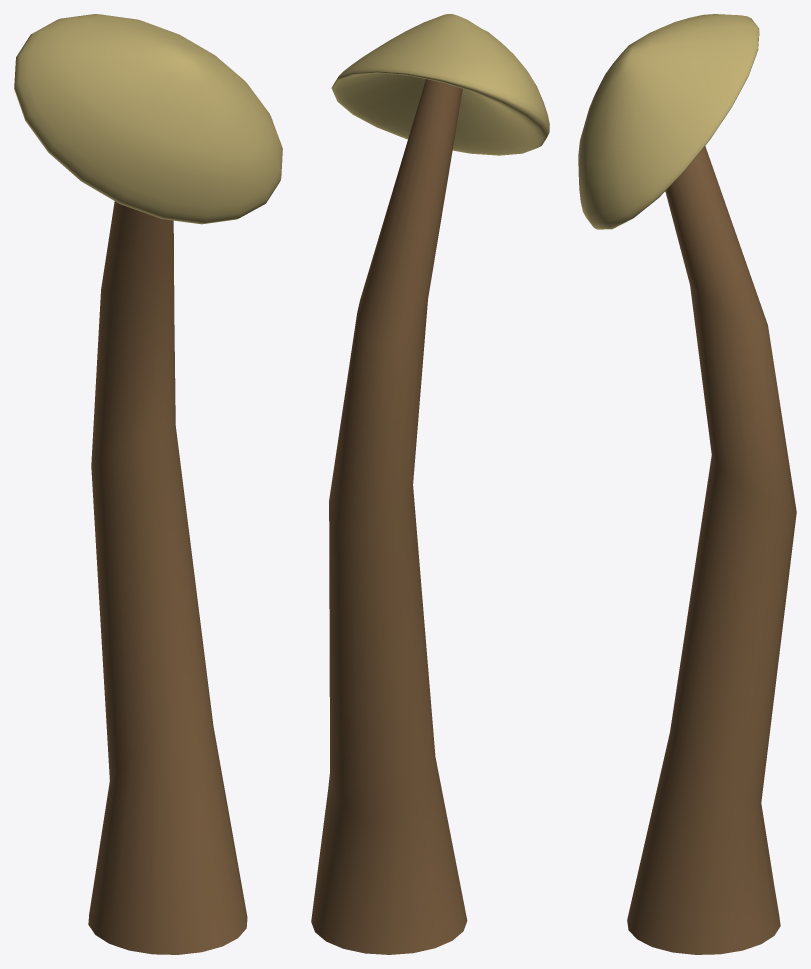
The model's file is sm_mushroom_02.fbx.
The picture shows the model from 3 angles, left to right: view 1: azimuth 30°, elevation 25°; view 2: azimuth 150°, elevation 25°; view 3: azimuth 270°, elevation 25°; orthographic projection. The views are drawn at different scales.
Visible parts, largest first — view 1: sm_mushroom_02; view 2: sm_mushroom_02; view 3: sm_mushroom_02.
Part boxes in pixels (x1=…): sm_mushroom_02: x1=14, y1=14, x2=282, y2=954; sm_mushroom_02: x1=311, y1=14, x2=549, y2=954; sm_mushroom_02: x1=578, y1=14, x2=796, y2=954.
Size of the model in its own units: 0.4747 by 1.81 by 0.4131.
